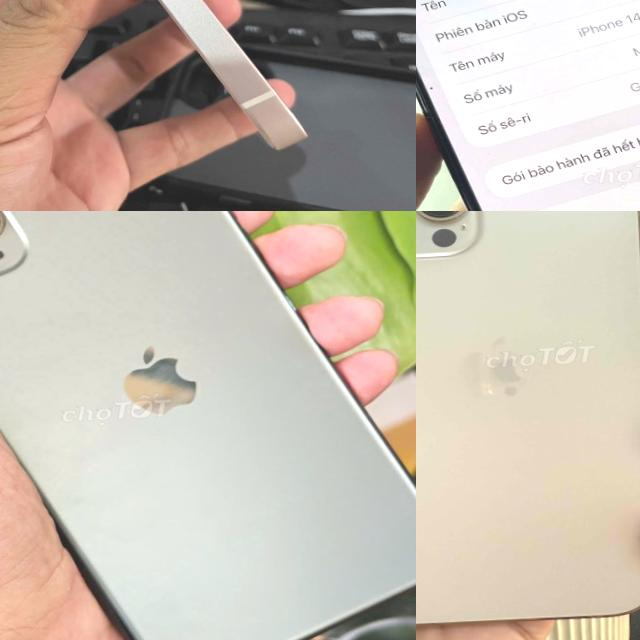gen_11: (0, 211, 416, 640)
gen_12_13: (416, 211, 640, 636)
gen_14: (0, 0, 321, 176), (416, 0, 640, 211)
